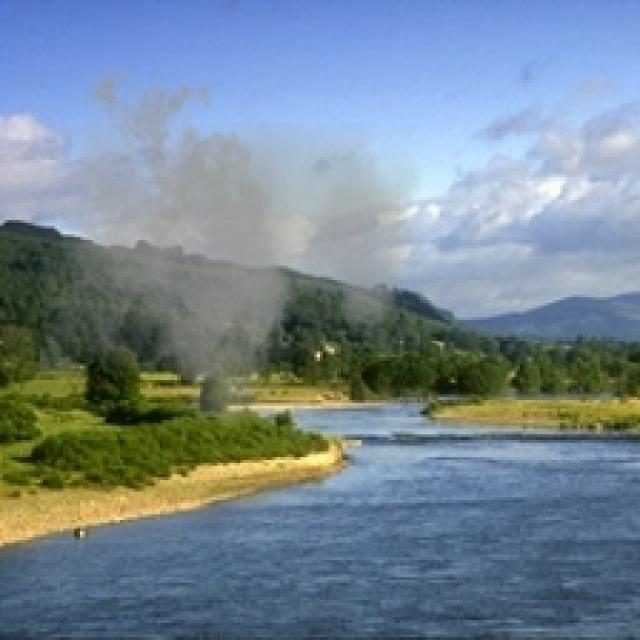smoke: (37, 54, 423, 443)
